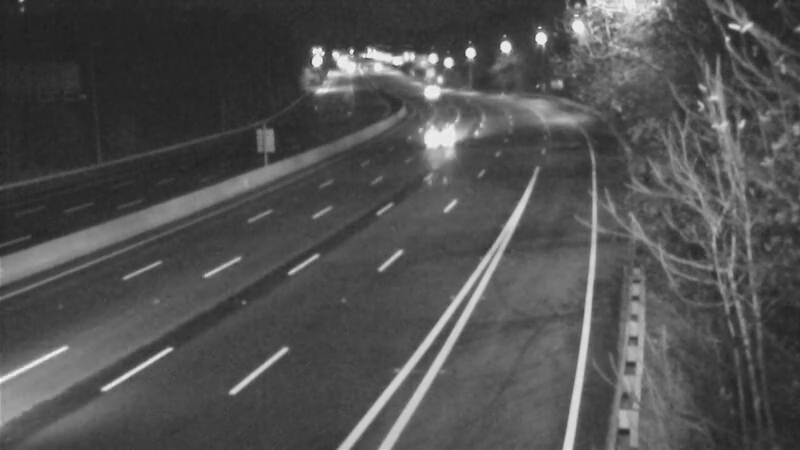vehicle: (401, 67, 451, 117), (424, 108, 474, 158)
